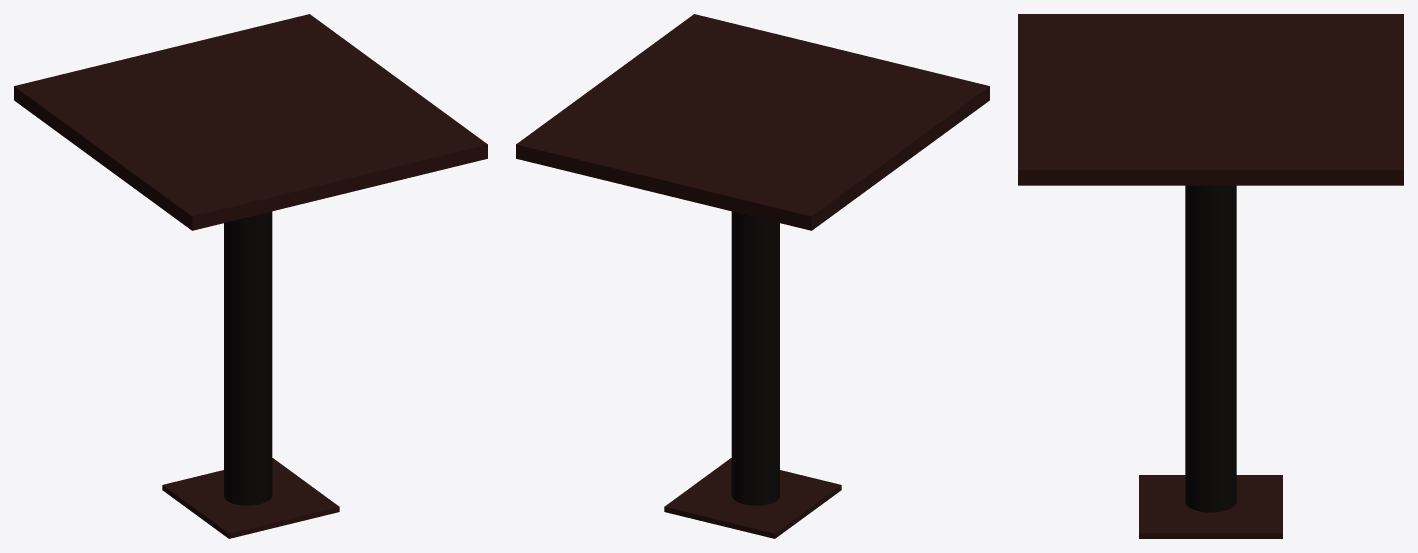
File: tableAtlas.fbx
3 views of the same model, side by side, from view 1: azimuth 30°, elevation 25°; view 2: azimuth 150°, elevation 25°; view 3: azimuth 270°, elevation 25° (orthographic). The views are drawn at different scales.
Visible parts, largest first — view 1: table; view 2: table; view 3: table.
Boxes of the visible parts, x1,y1,x2,y2 form: table: (14, 14, 487, 538); table: (516, 14, 989, 538); table: (1018, 14, 1403, 538).
Bounding box in the file's own units: 291 × 363 × 304.
